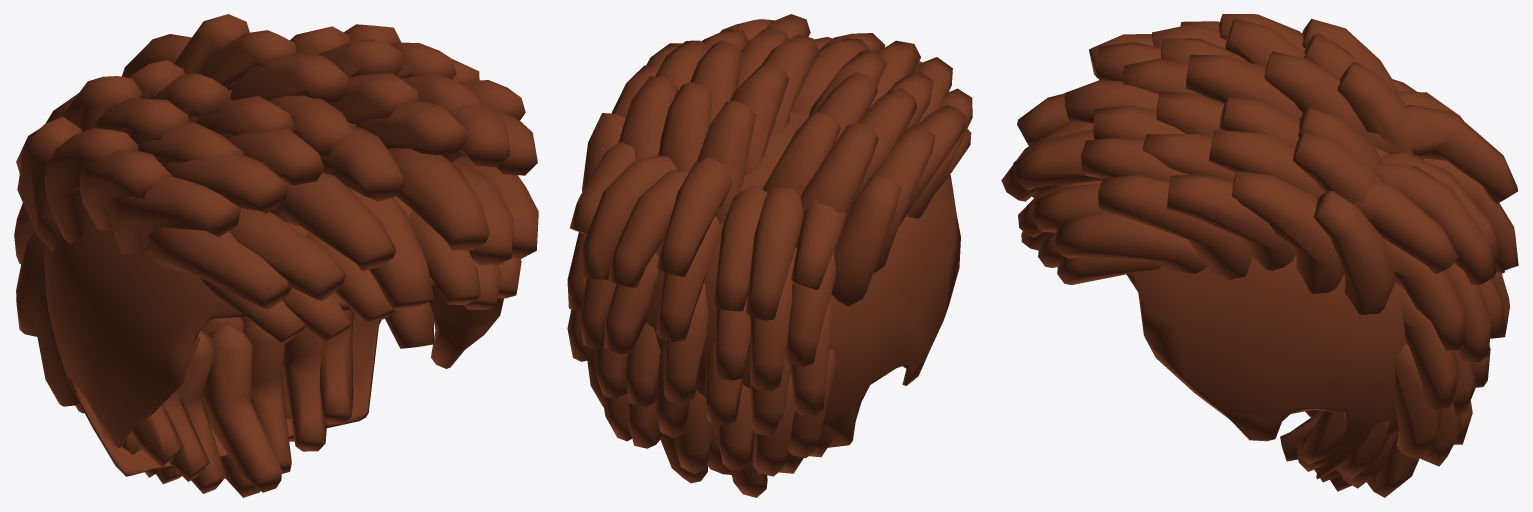
File: hair-8-a4fc6f40.glb
3 views of the same model, side by side, from view 1: azimuth 30°, elevation 25°; view 2: azimuth 150°, elevation 25°; view 3: azimuth 270°, elevation 25° (orthographic). The views are drawn at different scales.
Parts seen in each view (by area): view 1: hair_8.001; view 2: hair_8.001; view 3: hair_8.001.
Boxes of the visible parts, x1,y1,x2,y2 form: hair_8.001: (14, 14, 538, 497); hair_8.001: (567, 14, 972, 497); hair_8.001: (1001, 14, 1518, 497).
Bounding box in the file's own units: 1.68 × 2 × 2.18.
